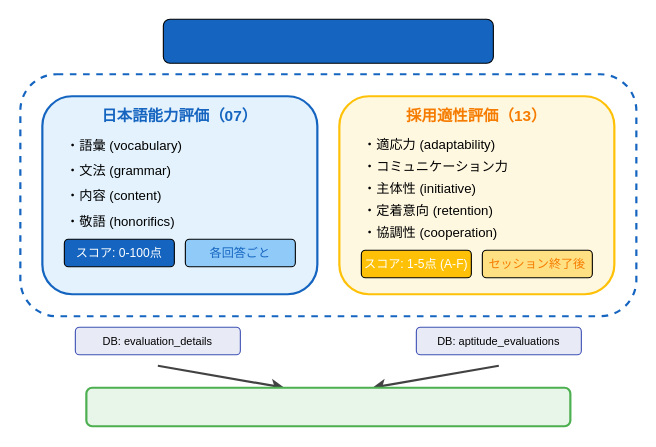
The diagram is 656 pixels wide and 447 high, and some of its shapes have lost their labels. Each missing label, with the centre of its shape:
"統合スコア = (日本語能力スコア × 0.4) + ((採用適性スコア - 1) × 25 × 0.6)" goes at point 328,406.
"総合面接評価" goes at point 327,40.
